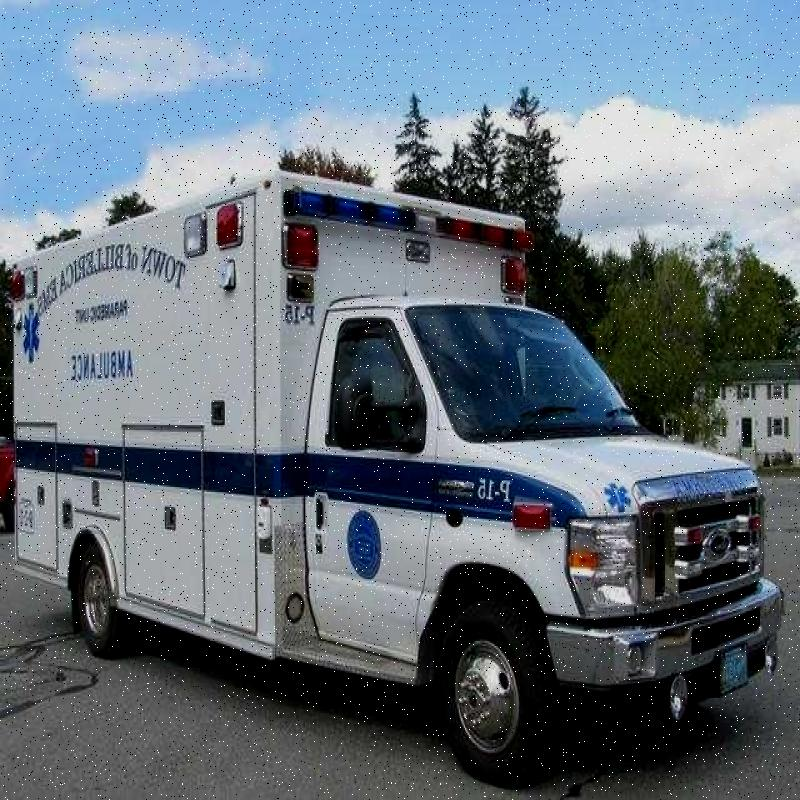AmbulanceSiren: (254, 180, 571, 245)
